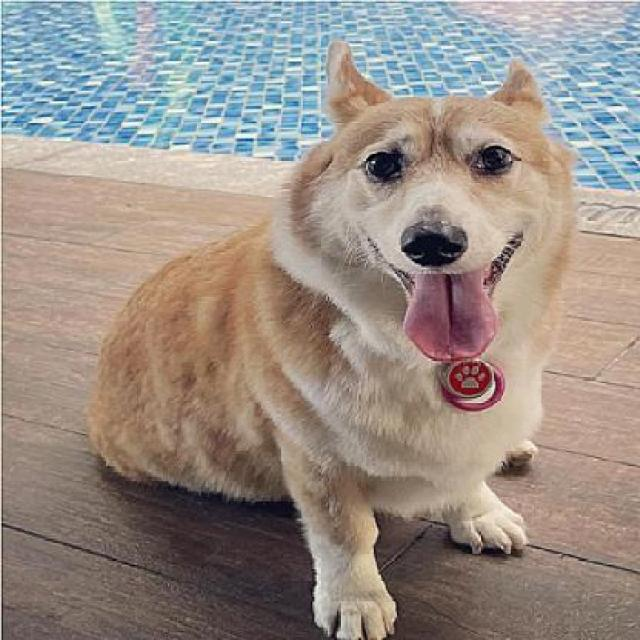Dog: (86, 36, 580, 638)
